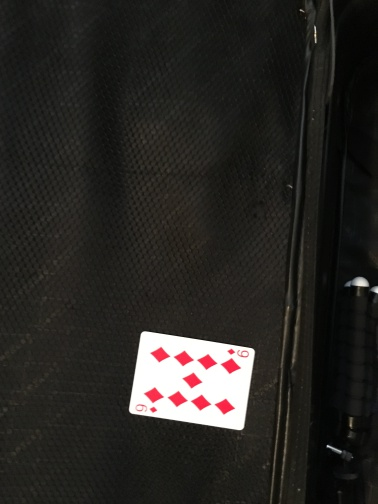nine: (128, 327, 256, 431)
